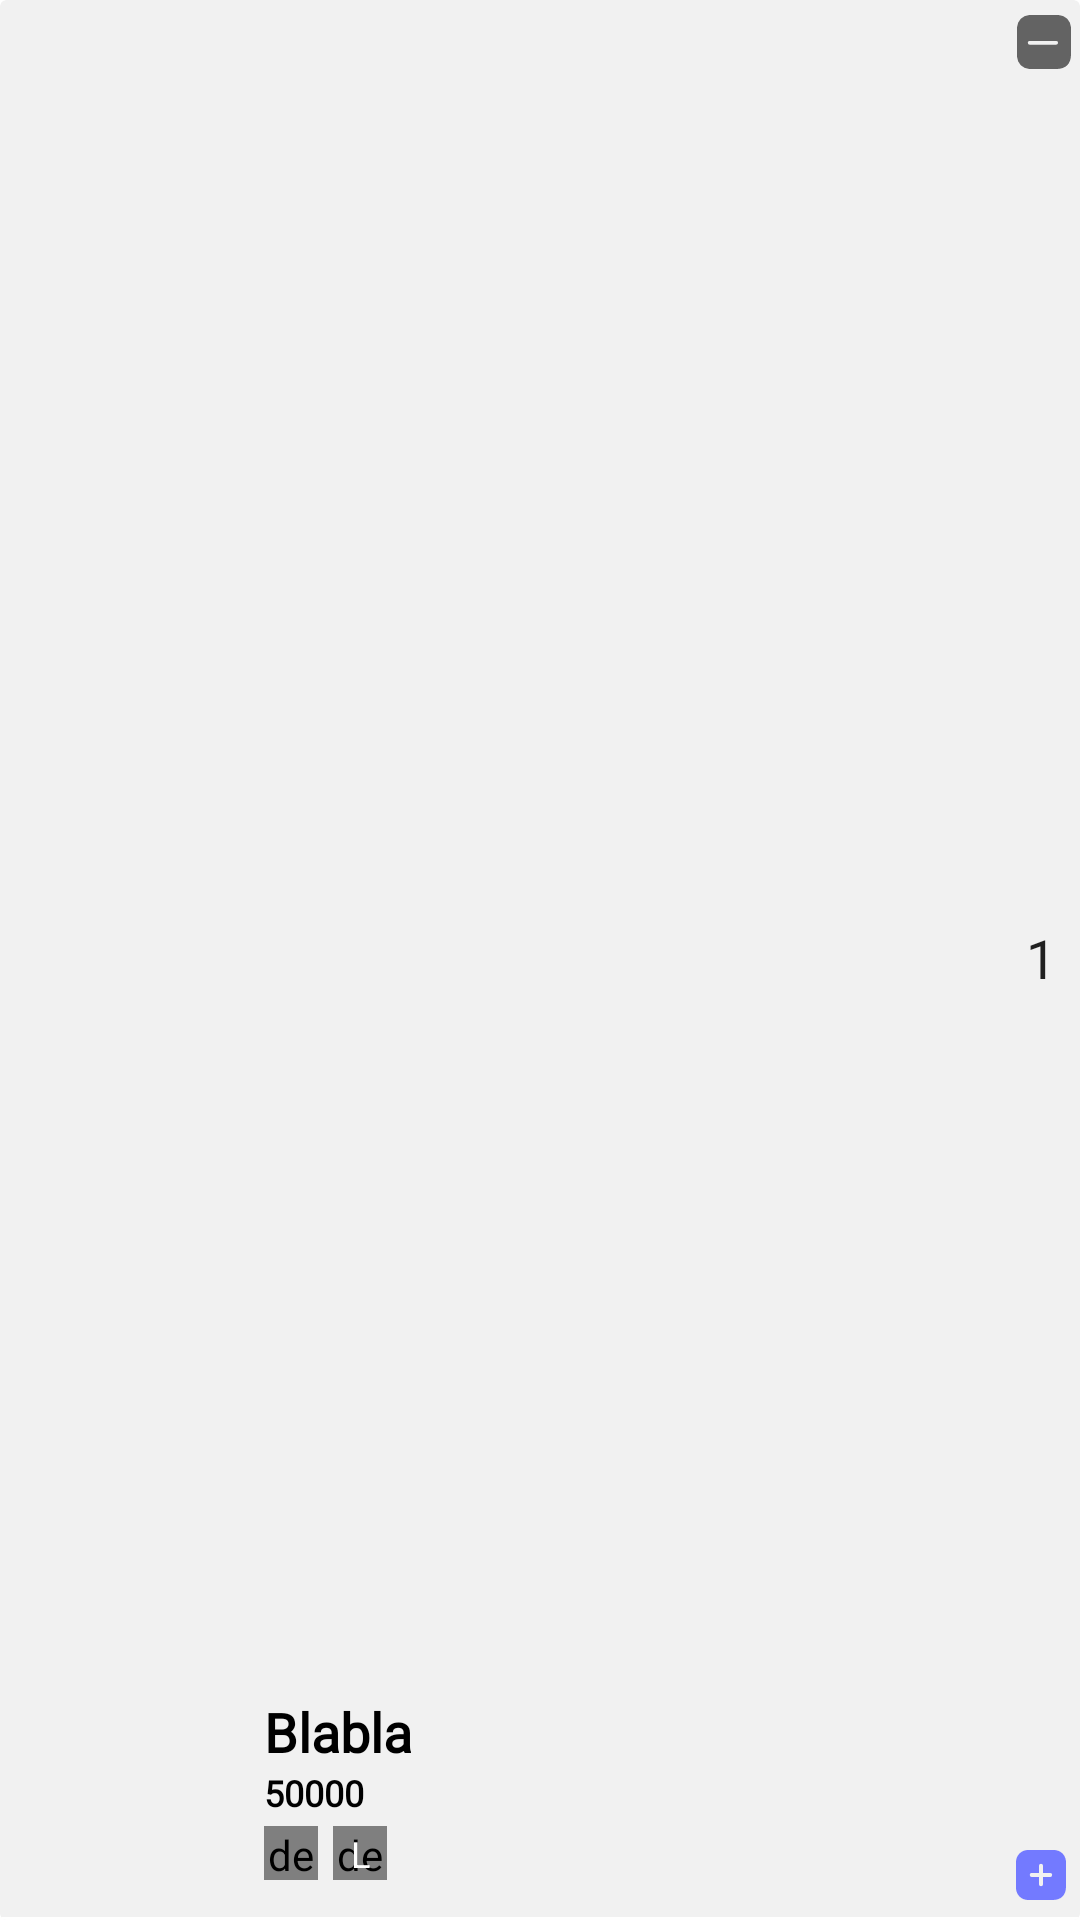

Icons on this 1080w x 1920h Android screen, each with the point to tap as [x,y]:
minus: [1044,42]
plus: [1041,1875]
